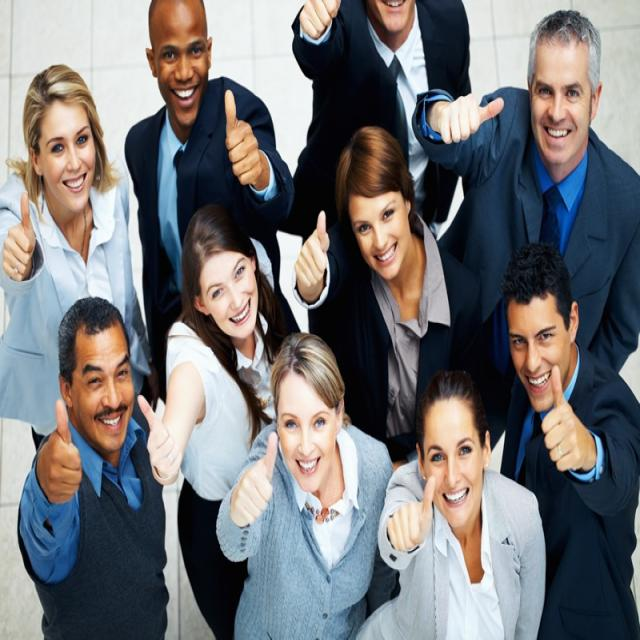body: (411, 3, 638, 472), (121, 0, 297, 408), (296, 120, 487, 466), (132, 194, 278, 639), (290, 0, 474, 347), (0, 60, 160, 459), (214, 328, 399, 639), (497, 239, 640, 640), (16, 294, 170, 638), (364, 359, 550, 639)
